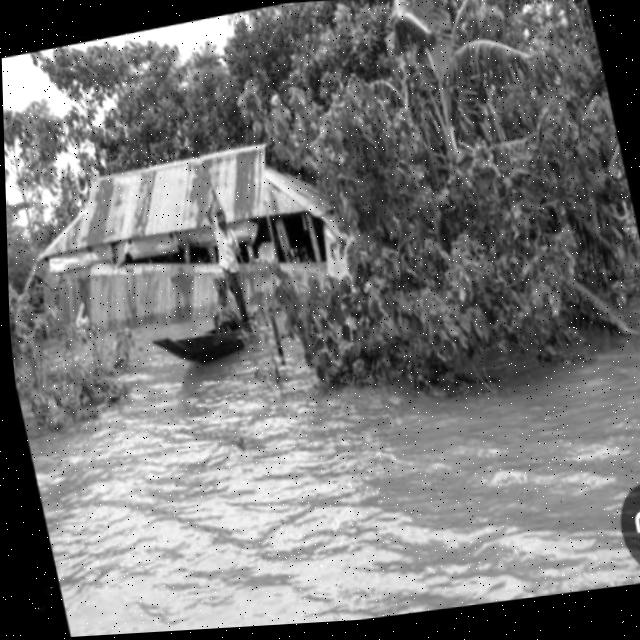civilian: (204, 195, 255, 346)
